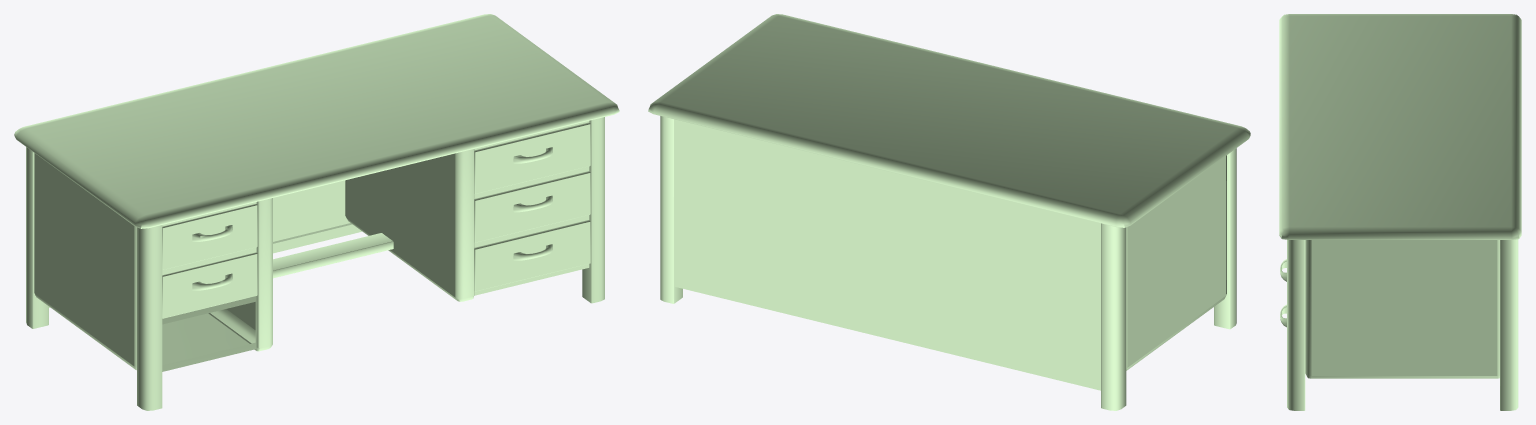
File: 5_material12_scrivania_NO_cassetto.fbx
3 views of the same model, side by side, from view 1: azimuth 30°, elevation 25°; view 2: azimuth 150°, elevation 25°; view 3: azimuth 270°, elevation 25° (orthographic). The views are drawn at different scales.
Visible parts, largest first — view 1: 5_material12_scrivania; view 2: 5_material12_scrivania; view 3: 5_material12_scrivania.
Part boxes in pixels (x1=…): 5_material12_scrivania: x1=14, y1=14, x2=619, y2=410; 5_material12_scrivania: x1=648, y1=14, x2=1250, y2=410; 5_material12_scrivania: x1=1279, y1=14, x2=1521, y2=410.
Size of the model in its own units: 1232 by 478 by 571.
